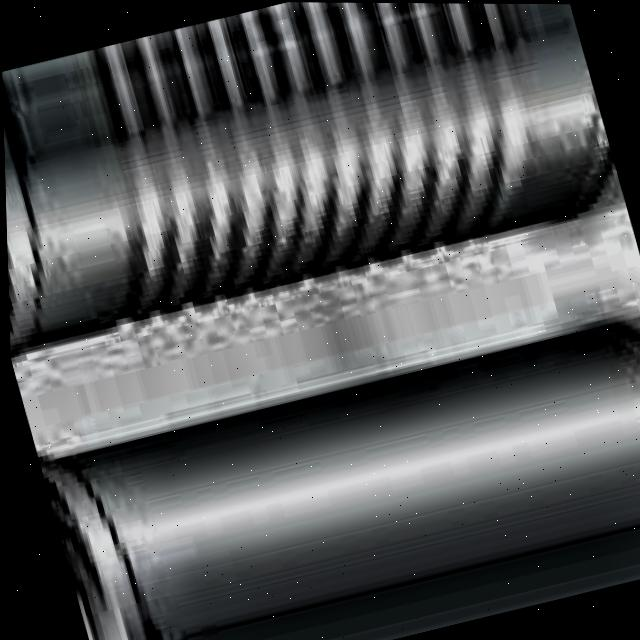metal: (2, 2, 612, 357), (35, 322, 640, 640)
